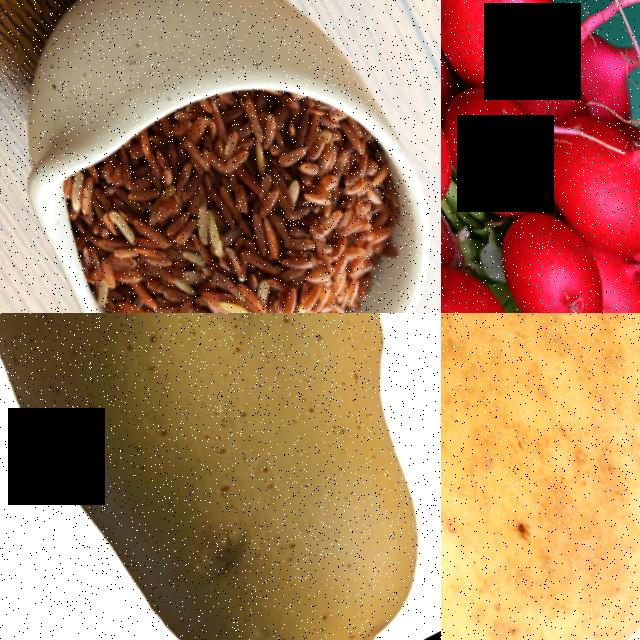potato: (0, 313, 441, 640), (441, 313, 640, 640)
radishes: (441, 0, 640, 313)
red rice: (40, 55, 432, 313)
